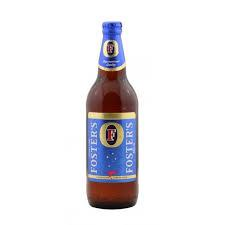Glass bottle: (73, 11, 149, 213)
